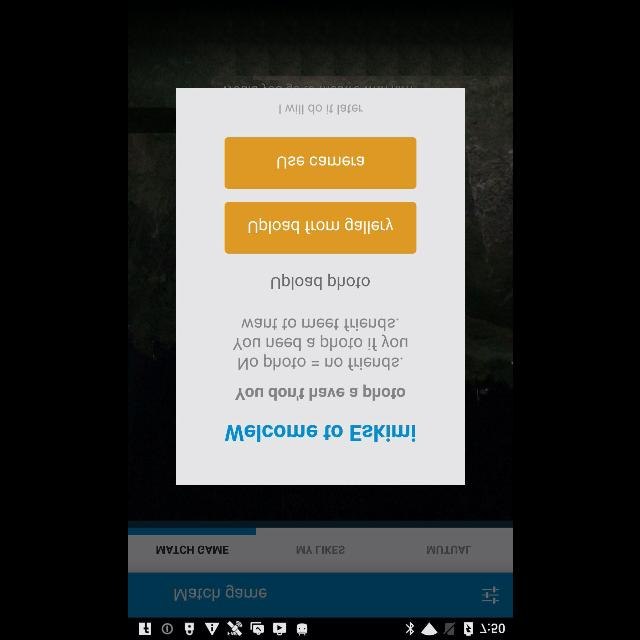icon: (481, 586, 499, 604)
panel: (175, 88, 465, 484)
text: (232, 317, 406, 371), (223, 425, 414, 443), (233, 384, 404, 401), (270, 272, 370, 290), (174, 584, 266, 602), (278, 104, 362, 116), (156, 546, 228, 554), (296, 546, 344, 554), (426, 546, 470, 554)
textbutton: (224, 202, 416, 254), (224, 137, 416, 189)
uppertaskbar: (128, 617, 512, 639)
